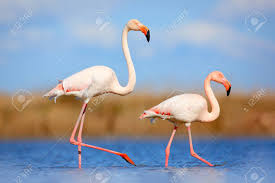Walking: (140, 67, 247, 173)
